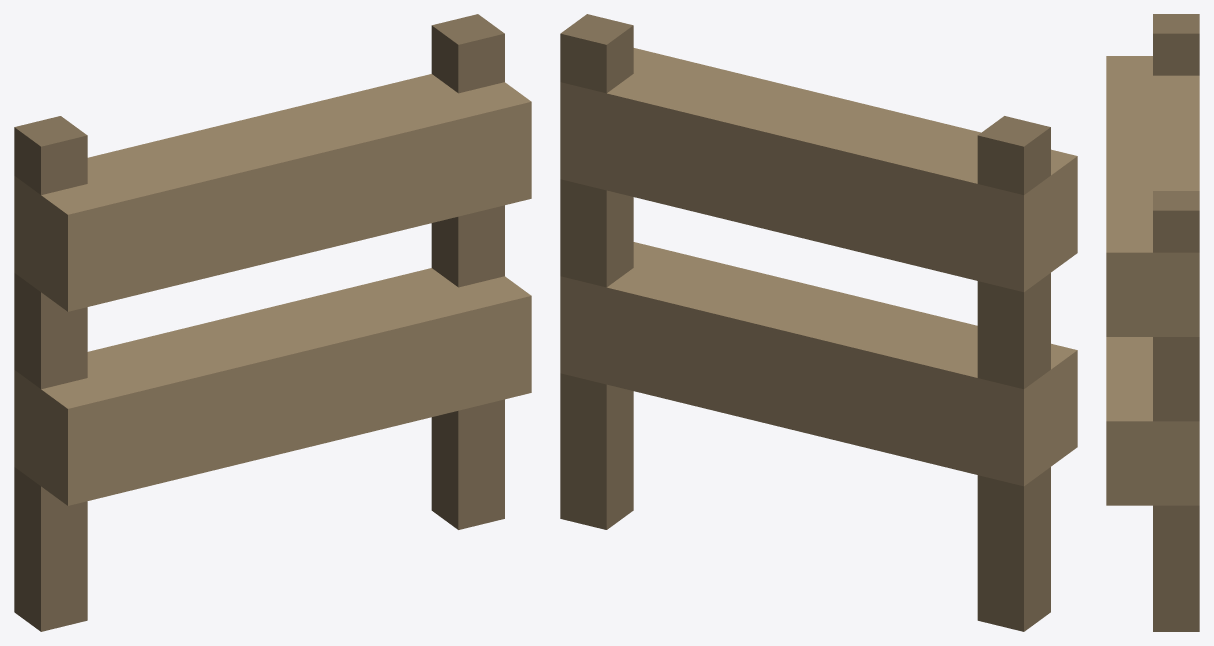
The model's file is valla_madera_01.glb.
3 renders of one model, left to right at view 1: azimuth 30°, elevation 25°; view 2: azimuth 150°, elevation 25°; view 3: azimuth 270°, elevation 25°, orthographic. The views are drawn at different scales.
Visible parts, largest first — view 1: valla_madera_01; view 2: valla_madera_01; view 3: valla_madera_01.
Boxes of the visible parts, x1,y1,x2,y2 form: valla_madera_01: (14,14,531,631); valla_madera_01: (560,14,1077,631); valla_madera_01: (1106,14,1199,631).
Size of the model in its own units: 1 by 1 by 0.2.
